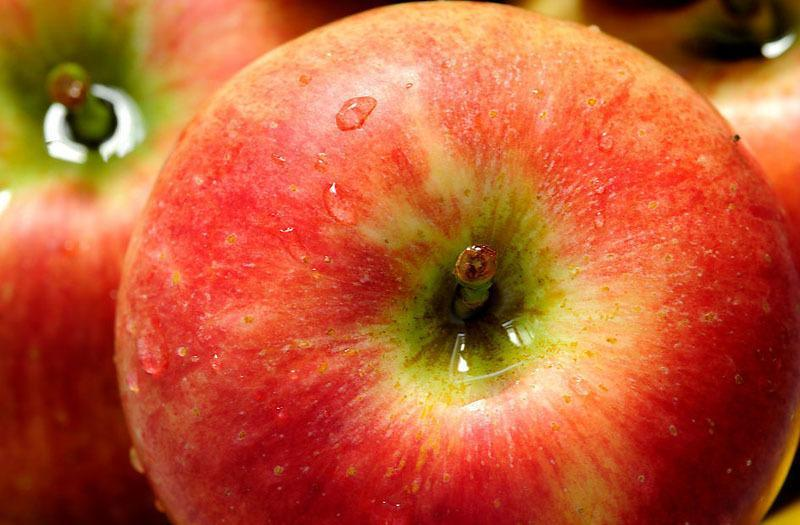apple: (115, 2, 800, 525), (1, 5, 351, 525)
